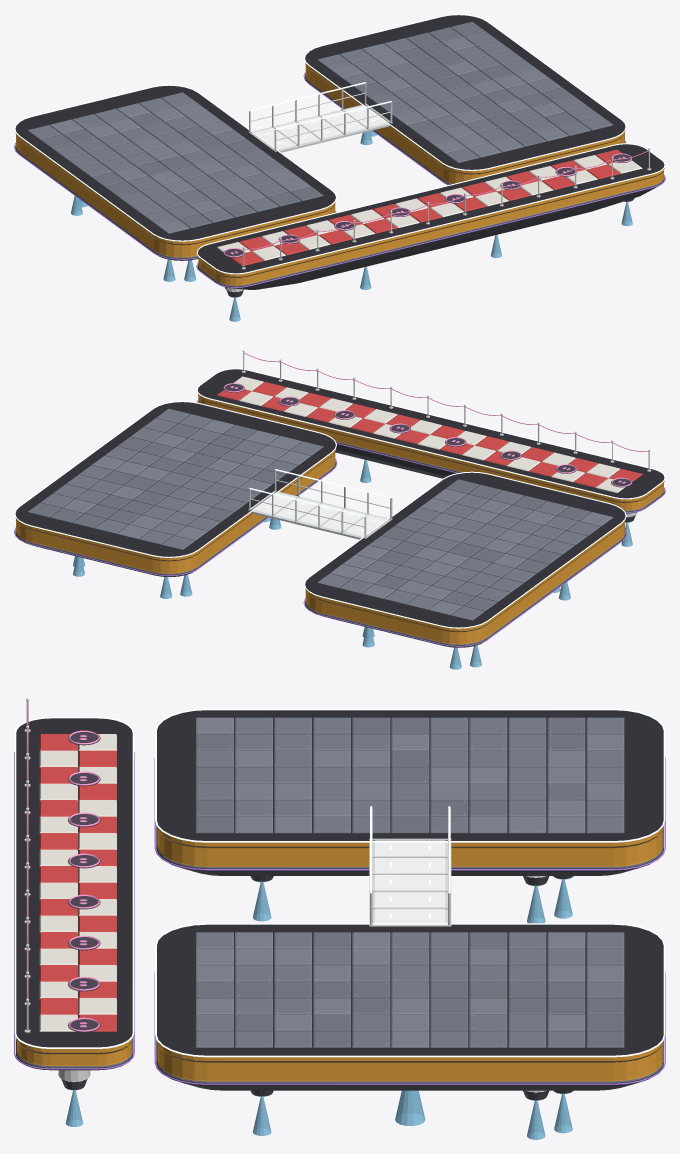
File: Level_BridgeIslands.fbx
3 views of the same model, one above another, from view 1: azimuth 30°, elevation 25°; view 2: azimuth 150°, elevation 25°; view 3: azimuth 270°, elevation 25° (orthographic). The views are drawn at different scales.
Visible parts, largest first — view 1: Bridge_Left_Tiles, Bridge_Right_Tiles, Customers_BridgeIslands_Slab, Bridge_Left_Slab, Bridge_Right_Slab, Customers_BridgeIslands_CheckerFloor, Bridge_Deck, Customers_BridgeIslands_QueueSpotsPosts, Customers_BridgeIslands_NeonRim, Bridge_Left_NeonRim, Bridge_Right_NeonRim, Customers_BridgeIslands_Engines (+3 smaller); view 2: Bridge_Left_Tiles, Bridge_Right_Tiles, Bridge_Left_Slab, Bridge_Right_Slab, Customers_BridgeIslands_Slab, Customers_BridgeIslands_CheckerFloor, Bridge_Deck, Customers_BridgeIslands_QueueSpotsPosts, Customers_BridgeIslands_NeonRim, Bridge_Left_NeonRim, Bridge_Right_NeonRim, Bridge_Left_Engines (+4 smaller); view 3: Bridge_Left_Tiles, Bridge_Right_Tiles, Bridge_Right_Slab, Bridge_Left_Slab, Customers_BridgeIslands_CheckerFloor, Customers_BridgeIslands_Slab, Bridge_Deck, Customers_BridgeIslands_QueueSpotsPosts, Bridge_Left_NeonRim, Bridge_Right_NeonRim, Bridge_Right_Engines, Customers_BridgeIslands_NeonRim (+5 smaller).
Boxes of the visible parts, box(x1,y1,x2,y2) form: Bridge_Left_Tiles: box(27, 92, 323, 233); Bridge_Right_Tiles: box(317, 21, 613, 163); Customers_BridgeIslands_Slab: box(197, 144, 664, 289); Bridge_Left_Slab: box(15, 85, 335, 260); Bridge_Right_Slab: box(305, 15, 625, 185); Customers_BridgeIslands_CheckerFloor: box(217, 149, 642, 265); Bridge_Deck: box(248, 82, 392, 152); Customers_BridgeIslands_QueueSpotsPosts: box(223, 148, 651, 269); Customers_BridgeIslands_NeonRim: box(196, 143, 665, 274); Bridge_Left_NeonRim: box(14, 84, 336, 241); Bridge_Right_NeonRim: box(304, 14, 626, 170); Customers_BridgeIslands_Engines: box(224, 198, 634, 321); Bridge_Left_Tiles: box(317, 479, 613, 620); Bridge_Right_Tiles: box(28, 408, 323, 549); Bridge_Left_Slab: box(305, 472, 625, 647); Bridge_Right_Slab: box(15, 402, 336, 577); Customers_BridgeIslands_Slab: box(197, 369, 664, 513); Customers_BridgeIslands_CheckerFloor: box(217, 376, 642, 492); Bridge_Deck: box(248, 469, 392, 539); Customers_BridgeIslands_QueueSpotsPosts: box(223, 350, 651, 487); Customers_BridgeIslands_NeonRim: box(196, 368, 665, 499); Bridge_Left_NeonRim: box(304, 471, 626, 628); Bridge_Right_NeonRim: box(14, 401, 336, 557); Bridge_Left_Engines: box(362, 582, 570, 669); Bridge_Left_Tiles: box(196, 717, 624, 833); Bridge_Right_Tiles: box(196, 932, 624, 1047); Bridge_Right_Slab: box(156, 924, 663, 1090); Bridge_Left_Slab: box(156, 710, 663, 875); Customers_BridgeIslands_CheckerFloor: box(39, 734, 116, 1031); Customers_BridgeIslands_Slab: box(16, 718, 132, 1070); Bridge_Deck: box(369, 806, 451, 926); Customers_BridgeIslands_QueueSpotsPosts: box(24, 698, 100, 1033); Bridge_Left_NeonRim: box(155, 708, 665, 842); Bridge_Right_NeonRim: box(155, 923, 665, 1057); Bridge_Right_Engines: box(250, 1090, 573, 1139); Customers_BridgeIslands_NeonRim: box(14, 717, 134, 1048).
Size of the model in its own units: 21.1 by 4.64 by 16.7.
